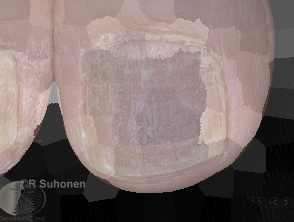Nail_psoriasis: (75, 24, 235, 182), (0, 42, 40, 167)
